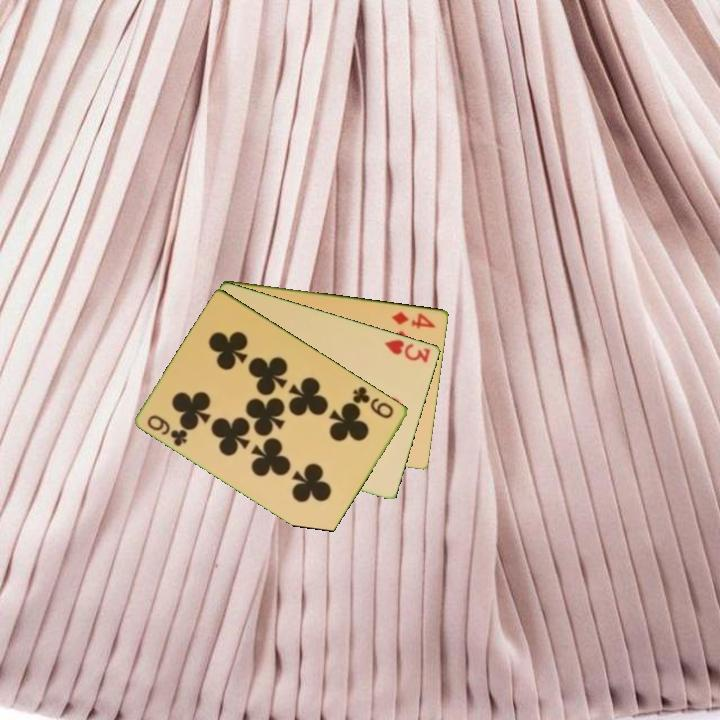3h: (382, 336, 433, 365)
4d: (388, 308, 439, 331)
9c: (349, 383, 397, 422), (144, 411, 191, 449)
